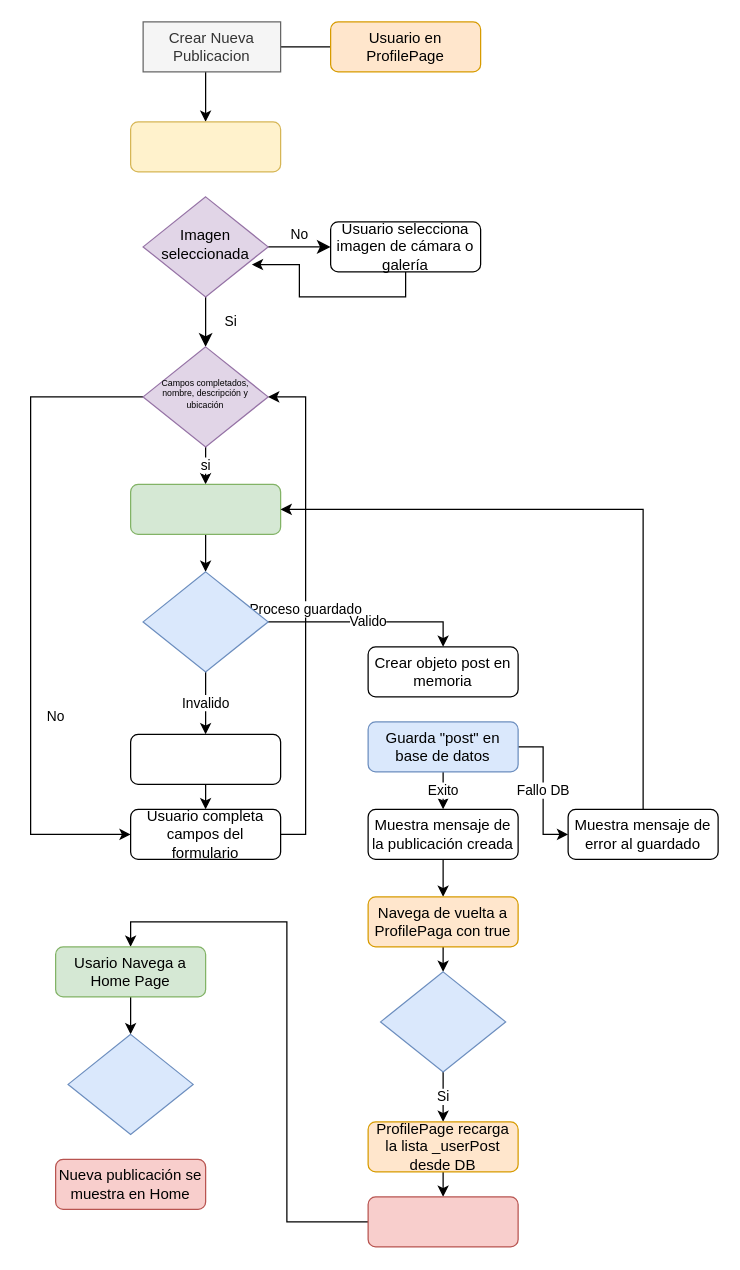
Some shapes in this 740 by 1270 pixel diagram are drawn without their labels. Here are the shapes that lost their labels. From the top down, the centre of each, then its label:
At (205,146): "Navega a NewPostPage".
At (205,508): "Publicar".
At (205,621): "Validación de datos".
At (205,758): "Muestra mensaje de error al usuario".
At (442,1021): "ProfilePage recibe el true".
At (130,1083): "Home recarga _allPost desde DB".
At (442,1221): "Nueva Publicación se muestra en Mis Publciaciones".
